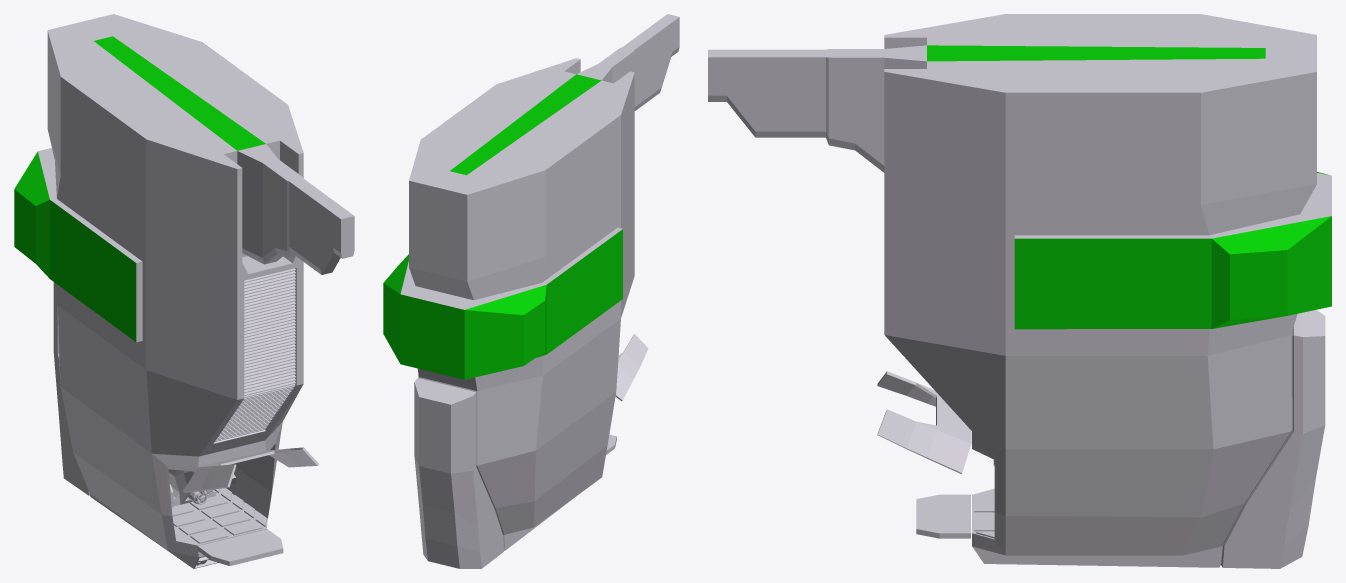
File: Fin Hangar.fbx
The picture shows the model from 3 angles, left to right: view 1: azimuth 30°, elevation 25°; view 2: azimuth 150°, elevation 25°; view 3: azimuth 270°, elevation 25°; orthographic projection. The views are drawn at different scales.
Parts seen in each view (by area): view 1: Fin Hangar; view 2: Fin Hangar; view 3: Fin Hangar.
Boxes of the visible parts, box(x1,y1,x2,y2) form: Fin Hangar: box(14, 14, 354, 568); Fin Hangar: box(383, 14, 679, 568); Fin Hangar: box(708, 14, 1331, 568).
Bounding box in the file's own units: 2.49 × 6.25 × 7.11.
